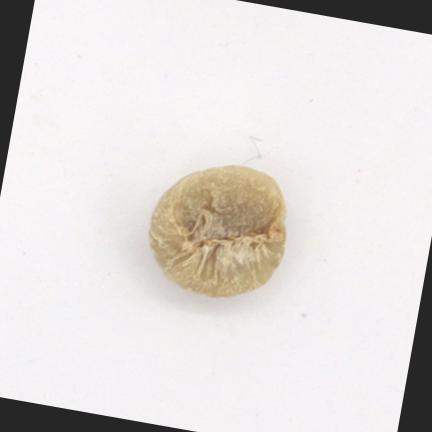husk: (150, 165, 286, 297)
